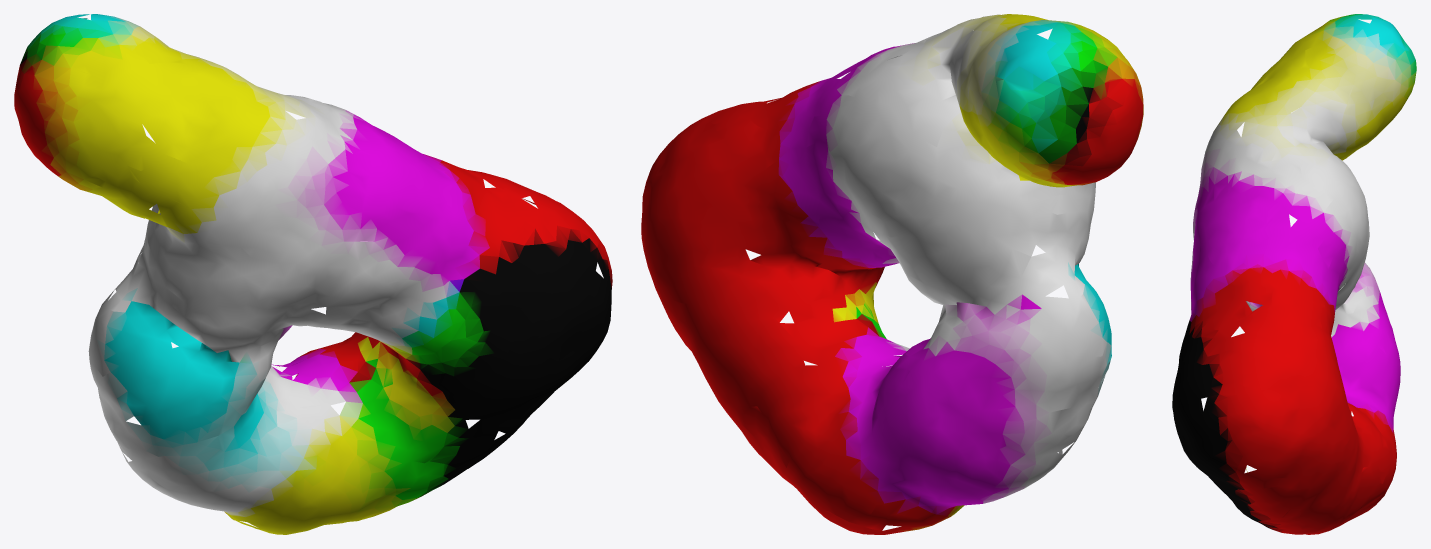
3 views of the same model, side by side, from view 1: azimuth 30°, elevation 25°; view 2: azimuth 150°, elevation 25°; view 3: azimuth 270°, elevation 25° (orthographic). The views are drawn at different scales.
Visible parts, largest first — view 1: p.2 1; view 2: p.2 1; view 3: p.2 1.
Part boxes in pixels (x1=…): p.2 1: x1=14, y1=14, x2=612, y2=534; p.2 1: x1=641, y1=14, x2=1143, y2=534; p.2 1: x1=1172, y1=14, x2=1416, y2=534.
Size of the model in its own units: 1.46 by 1.43 by 0.7458.
